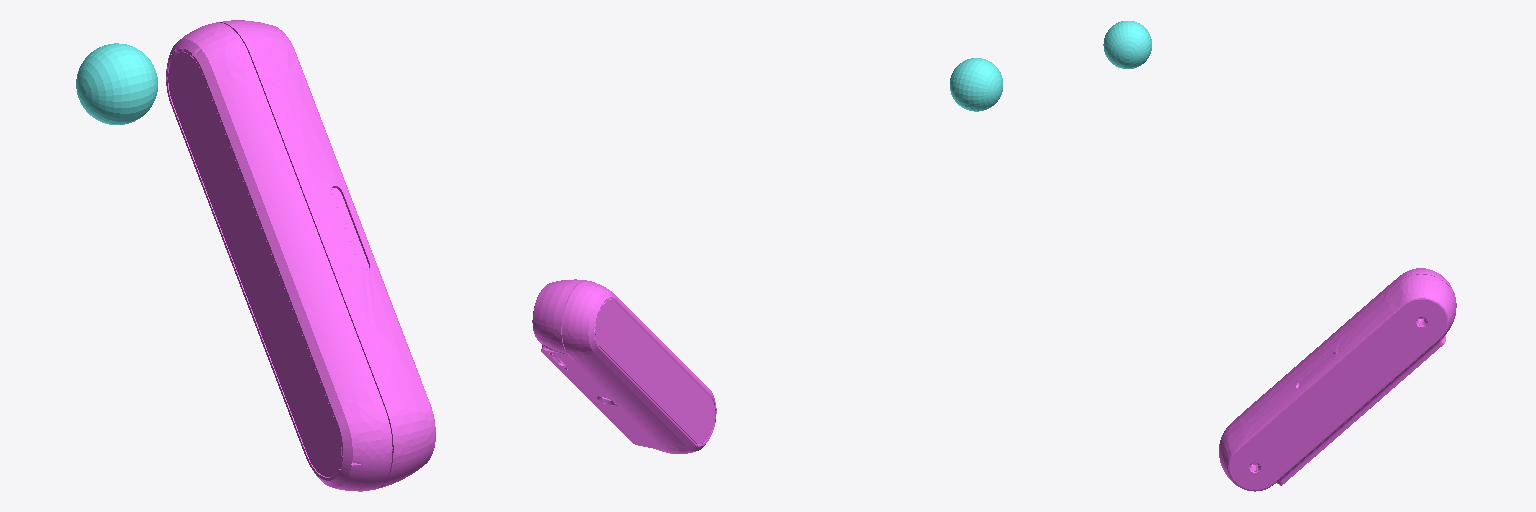
The robot description file, URDF, robot "panda_hand":
<?xml version='1.0' encoding='utf-8'?>
<robot name="panda_hand">

    <link name="link0">
      <inertial>
        <origin xyz="0 0 0.05" rpy="0 0 0" />
        <mass value="4" />
        <inertia ixx="0.4" iyy="0.4" izz="0.4" ixy="0" ixz="0" iyz="0" />
      </inertial>
      <visual>
        <geometry>
          <mesh filename="../../model/panda/meshes/visual/link0.obj"/>
        </geometry>
      </visual>
<!--       <collision>
        <geometry>
          <mesh filename="../../../model/meshes/collision/link0.obj"/>
        </geometry>
      </collision> -->
    </link>
    <link name="link1">
      <inertial>
        <origin xyz="0 0 -0.07" rpy="0 -0 0" />
        <mass value="3" />
        <inertia ixx="0.3" iyy="0.3" izz="0.3" ixy="0" ixz="0" iyz="0" />
      </inertial>
      <visual>
        <geometry>
          <mesh filename="../../model/panda/meshes/visual/link1.obj"/>
        </geometry>
      </visual>
      <!-- <collision>
        <geometry>
          <mesh filename="../../../model/meshes/collision/link1.obj"/>
        </geometry>
      </collision> -->
    </link>
    <link name="link2">
      <inertial>
        <origin xyz="0 -0.1 0" rpy="0 -0 0" />
        <mass value="3" />
        <inertia ixx="0.3" iyy="0.3" izz="0.3" ixy="0" ixz="0" iyz="0" />
      </inertial>
      <visual>
        <geometry>
          <mesh filename="../../model/panda/meshes/visual/link2.obj"/>
        </geometry>
      </visual>
      <!-- <collision>
        <geometry>
          <mesh filename="../../../model/meshes/collision/link2.obj"/>
        </geometry>
      </collision> -->
    </link>
    <link name="link3">
      <inertial>
        <origin xyz="0.04 0 -0.05" rpy="0 -0 0" />
        <mass value="2" />
        <inertia ixx="0.2" iyy="0.2" izz="0.2" ixy="0" ixz="0" iyz="0" />
      </inertial>
      <visual>
        <geometry>
          <mesh filename="../../model/panda/meshes/visual/link3.obj"/>
        </geometry>
      </visual>
      <!-- <collision>
        <geometry>
          <mesh filename="../../../model/meshes/collision/link3.obj"/>
        </geometry>
      </collision> -->
    </link>
    <link name="link4">
      <inertial>
        <origin xyz="-0.04 0.05 0" rpy="0 -0 0" />
        <mass value="2" />
        <inertia ixx="0.2" iyy="0.2" izz="0.2" ixy="0" ixz="0" iyz="0" />
      </inertial>
      <visual>
        <geometry>
          <mesh filename="../../model/panda/meshes/visual/link4.obj"/>
        </geometry>
      </visual>
<!--       <collision>
        <geometry>
          <mesh filename="../../../model/meshes/collision/link4.obj"/>
        </geometry>
      </collision> -->
    </link>
    <link name="link5">
      <inertial>
        <origin xyz="0 0 -0.15" rpy="0 -0 0" />
        <mass value="2" />
        <inertia ixx="0.2" iyy="0.2" izz="0.2" ixy="0" ixz="0" iyz="0" />
      </inertial>
      <visual>
        <geometry>
          <mesh filename="../../model/panda/meshes/visual/link5.obj"/>
        </geometry>
      </visual>
<!--       <collision>
        <geometry>
          <mesh filename="../../../model/meshes/collision/link5.obj"/>
        </geometry>
      </collision> -->
    </link>
    <link name="link6">
      <inertial>
        <origin xyz="0.06 0 0" rpy="0 -0 0" />
        <mass value="1.5" />
        <inertia ixx="0.1" iyy="0.1" izz="0.1" ixy="0" ixz="0" iyz="0" />
      </inertial>
      <visual>
        <geometry>
          <mesh filename="../../model/panda/meshes/visual/link6.obj"/>
        </geometry>
      </visual>
      <!-- <collision>
        <geometry>
          <mesh filename="../../../model/meshes/collision/link6.obj"/>
        </geometry>
      </collision> -->
    </link>
    <link name="link7">
      <inertial>
        <origin xyz="0 0 0.17" rpy="0 -0 0" />
        <mass value="1.8" />
        <inertia ixx="0.09" iyy="0.05" izz="0.07" ixy="0" ixz="0" iyz="0" />
      </inertial>
      <visual>
        <geometry>
          <mesh filename="../../model/panda/meshes/visual/link7.obj"/>
        </geometry>
      </visual>
      <!-- <collision>
        <geometry>
          <mesh filename="../../../model/meshes/collision/link7.obj"/>
        </geometry>
      </collision> -->
      <visual>
        <origin xyz="0 0 0.107" rpy="0 0 -0.78539816339" />
        <geometry>
          <mesh filename="../../model/panda/meshes/visual/hand.obj"/>
        </geometry>
      </visual>
<!--       <collision>
        <origin xyz="0 0 0.107" rpy="0 0 -0.78539816339" />
        <geometry>
          <mesh filename="../../../model/meshes/collision/hand.obj"/>
        </geometry>
      </collision> -->
    </link>
    
     <link name="end_effector">
      <inertial>
        <origin xyz="0 0 0" rpy="0 0 0" />
        <mass value="0.5" />
        <inertia ixx="0.05" iyy="0.05" izz="0.05" ixy="0" ixz="0" iyz="0" />
      </inertial>
      <visual>
        <geometry>
          <sphere radius="0.01"/>
        </geometry>
        <material name="material_ee">
            <color rgba="0.5 1 1 1.0" />
        </material>
      </visual>
      <collision>
        <geometry>
          <sphere radius="0.01"/>
        </geometry>
      </collision>      
    </link>
    
    <joint name="joint_fixed" type="fixed">
      <origin rpy="0 0 -0.78539816339" xyz="0.0 0.0 0.22"/>
      <parent link="link7"/>
      <child link="end_effector"/>
    </joint>
    
      <link name="camera_link">
      <inertial>
        <origin xyz="0 0 0" rpy="0 0 0" />
        <mass value="0.1" />
        <inertia ixx="0.05" iyy="0.05" izz="0.05" ixy="0" ixz="0" iyz="0" />
      </inertial>
      <visual>
        <geometry>
          <mesh filename="../../model/panda/meshes/realsense_d455/realsense1.obj"/>
        </geometry>
        <material name="material_ee">
            <color rgba="1.0 0.5 1 1.0" />
        </material>
      </visual>
      <collision>
        <geometry>
          <sphere radius="0.01"/>
        </geometry>
      </collision>      
    </link>
    
    <joint name="joint_camera" type="fixed">
<!--      <origin rpy="-0.27236 -1.52365 2.64038" xyz="0.0621727 -0.12771 0.131468"/>-->
      <origin rpy="-0.0451196 -0.0166413 0.798895" xyz="0.103379 -0.0854363 0.132081"/>
      <parent link="link7"/>
      <child link="camera_link"/>
    </joint>
    
    
    <link name="leftfinger">
      <inertial>
        <origin xyz="0 0 0.05" rpy="0 -0 0" />
        <mass value="0.1" />
        <inertia ixx="0.01" iyy="0.01" izz="0.005" ixy="0" ixz="0" iyz="0" />
      </inertial>
      <visual>
        <geometry>
          <mesh filename="../../model/panda/meshes/visual/finger.obj"/>
        </geometry>
      </visual>
<!--       <collision>
        <geometry>
          <mesh filename="../../../model/meshes/collision/finger.obj"/>
        </geometry>
      </collision> -->
    </link>
     
    <link name="rightfinger">
      <inertial>
        <origin xyz="0 0 0.05" rpy="0 -0 0" />
        <mass value="0.1" />
        <inertia ixx="0.01" iyy="0.01" izz="0.005" ixy="0" ixz="0" iyz="0" />
      </inertial>
      <visual>
        <origin xyz="0 0 0" rpy="0 0 3.14159265359" />
        <geometry>
          <mesh filename="../../model/panda/meshes/visual/finger.obj"/>
        </geometry>
      </visual>
<!--       <collision>
        <origin xyz="0 0 0" rpy="0 0 3.14159265359" />
        <geometry>
          <mesh filename="../../../model/meshes/collision/finger.obj"/>
        </geometry>
      </collision> -->
    </link>
    <joint name="joint1" type="revolute">
      <safety_controller k_position="100.0" k_velocity="40.0" soft_lower_limit="-2.8973" soft_upper_limit="2.8973"/>
      <origin rpy="0 0 0" xyz="0 0 0.333"/>
      <parent link="link0"/>
      <child link="link1"/>
      <axis xyz="0 0 1"/>
      <limit effort="87" lower="-2.8973" upper="2.8973" velocity="2.1750"/>
    </joint>
    <joint name="joint2" type="revolute">
      <safety_controller k_position="100.0" k_velocity="40.0" soft_lower_limit="-1.7628" soft_upper_limit="1.7628"/>
      <origin rpy="-1.57079632679 0 0" xyz="0 0 0"/>
      <parent link="link1"/>
      <child link="link2"/>
      <axis xyz="0 0 1"/>
      <calibration falling="15.0" />
      <limit effort="87" lower="-1.7628" upper="1.7628" velocity="2.1750"/>
    </joint>
    <joint name="joint3" type="revolute">
      <safety_controller k_position="100.0" k_velocity="40.0" soft_lower_limit="-2.8973" soft_upper_limit="2.8973"/>
      <origin rpy="1.57079632679 0 0" xyz="0 -0.316 0"/>
      <parent link="link2"/>
      <child link="link3"/>
      <axis xyz="0 0 1"/>
      <limit effort="87" lower="-2.8973" upper="2.8973" velocity="2.1750"/>
    </joint>
    <joint name="joint4" type="revolute">
      <safety_controller k_position="100.0" k_velocity="40.0" soft_lower_limit="-3.0718" soft_upper_limit="-0.0698"/>
      <origin rpy="1.57079632679 0 0" xyz="0.0825 0 0"/>
      <parent link="link3"/>
      <child link="link4"/>
      <axis xyz="0 0 1"/>
      <calibration falling="-95.0" />
      <limit effort="87" lower="-3.0718" upper="-0.0698" velocity="2.1750"/>
    </joint>
    <joint name="joint5" type="revolute">
      <safety_controller k_position="100.0" k_velocity="40.0" soft_lower_limit="-2.8973" soft_upper_limit="2.8973"/>
      <origin rpy="-1.57079632679 0 0" xyz="-0.0825 0.384 0"/>
      <parent link="link4"/>
      <child link="link5"/>
      <axis xyz="0 0 1"/>
      <limit effort="12" lower="-2.8973" upper="2.8973" velocity="2.6100"/>
    </joint>
    <joint name="joint6" type="revolute">
      <safety_controller k_position="100.0" k_velocity="40.0" soft_lower_limit="-0.0175" soft_upper_limit="3.7525"/>
      <origin rpy="1.57079632679 0 0" xyz="0 0 0"/>
      <parent link="link5"/>
      <child link="link6"/>
      <axis xyz="0 0 1"/>
      <calibration falling="125.0" />
      <limit effort="12" lower="-0.0175" upper="3.7525" velocity="2.6100"/>
    </joint>
    <joint name="joint7" type="revolute">
      <safety_controller k_position="100.0" k_velocity="40.0" soft_lower_limit="-2.8973" soft_upper_limit="2.8973"/>
      <origin rpy="1.57079632679 0 0" xyz="0.088 0 0"/>
      <parent link="link6"/>
      <child link="link7"/>
      <axis xyz="0 0 1"/>
      <limit effort="12" lower="-2.8973" upper="2.8973" velocity="2.6100"/>
    </joint>
    <joint name="finger_joint1" type="prismatic">
      <parent link="link7"/>
      <child link="leftfinger"/>
      <origin xyz="0 0 0.1654" rpy="0 0 -0.78539816339"/>
      <axis xyz="0 1 0"/>
      <calibration rising="0.02" />
      <limit effort="20" lower="0.0" upper="0.04" velocity="0.2"/>
    </joint>
    <joint name="finger_joint2" type="prismatic">
      <parent link="link7"/>
      <child link="rightfinger"/>
      <origin xyz="0 0 0.1654" rpy="0 0 -0.78539816339"/>
      <axis xyz="0 1 0"/>
      <calibration rising="-0.02" />
      <limit effort="20" lower="0.0" upper="0.04" velocity="0.2"/>
      <!-- <mimic joint="finger_joint1" /> -->
    </joint>
</robot>

--- Facts derived from the render (not from the file) ---
Views: 3 orthographic renders of the robot side by side, from view 1: azimuth 30°, elevation 25°; view 2: azimuth 150°, elevation 25°; view 3: azimuth 270°, elevation 25°.
Model panda_hand with 12 links and 11 joints (7 revolute, 2 prismatic, 2 fixed), rooted at link0, posed joints at zero except 1 at the middle of their limits (joint4 = -1.57).
Links seen in each view (by area): view 1: camera_link, end_effector; view 2: camera_link, end_effector; view 3: camera_link, end_effector.
Boxes of the visible links, box(x1,y1,x2,y2) form: camera_link: box(166, 20, 435, 491); end_effector: box(76, 43, 157, 124); camera_link: box(532, 279, 716, 453); end_effector: box(950, 58, 1002, 111); camera_link: box(1219, 268, 1456, 491); end_effector: box(1103, 21, 1151, 68).
Size in the robot's own frame: 0.1252 by 0.1442 by 0.1615 metres.
Meshes: 11 distinct files referenced, 1 mesh visuals loaded (1 OBJ); not drawn: 11 (reference not matched to a file when rendering).